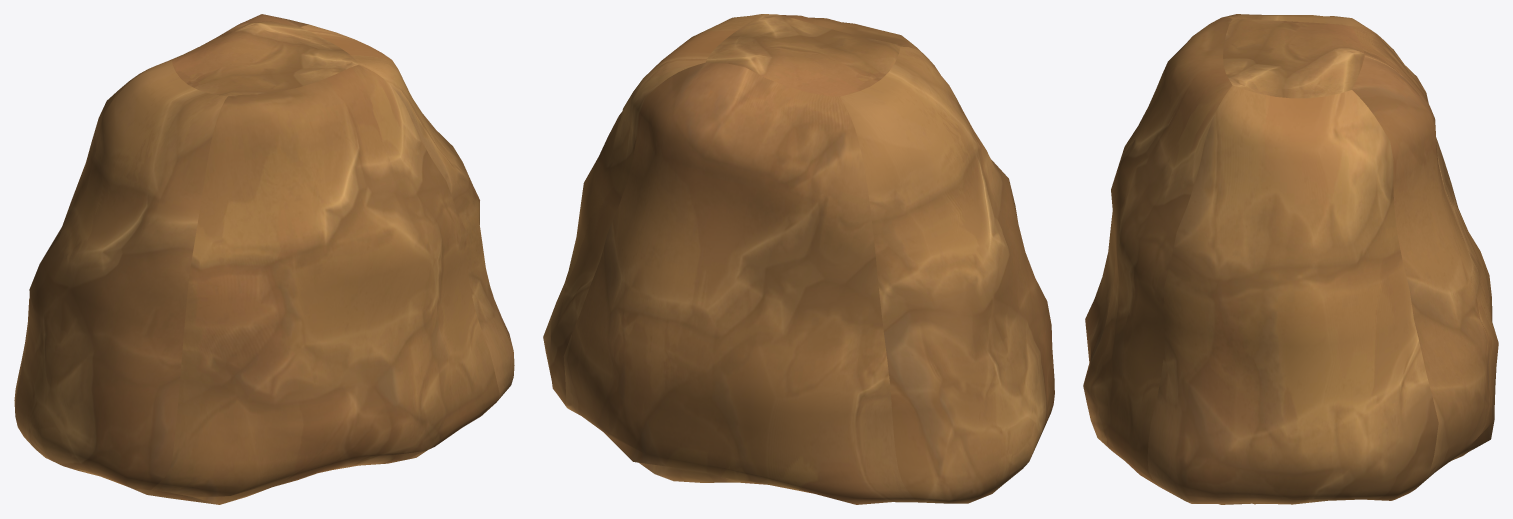
Rendered from Low_islands5.fbx.
The picture shows the model from 3 angles, left to right: view 1: azimuth 30°, elevation 25°; view 2: azimuth 150°, elevation 25°; view 3: azimuth 270°, elevation 25°; orthographic projection. The views are drawn at different scales.
Visible parts, largest first — view 1: Cube.004; view 2: Cube.004; view 3: Cube.004.
Part boxes in pixels (left/top/right/bottom): Cube.004: left=14, top=14, right=514, bottom=504; Cube.004: left=543, top=14, right=1054, bottom=504; Cube.004: left=1083, top=14, right=1498, bottom=504.
Bounding box in the file's own units: 813 × 668 × 635.
1 material, 1 textured.
